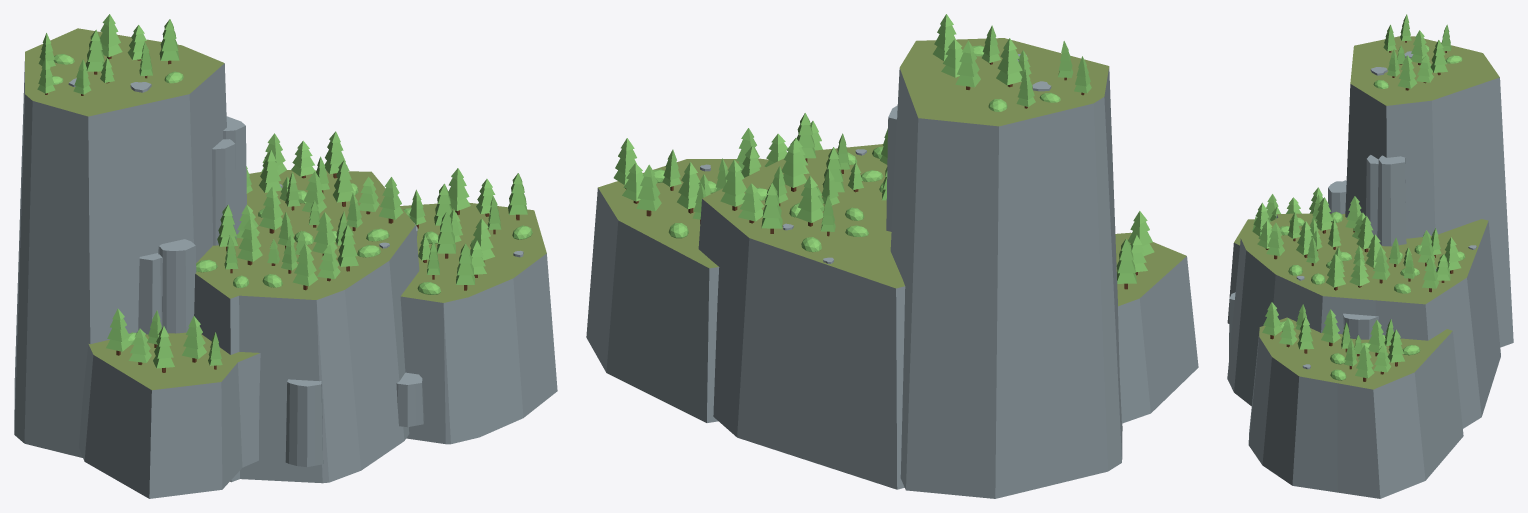
File: Mountain5.fbx
3 views of the same model, side by side, from view 1: azimuth 30°, elevation 25°; view 2: azimuth 150°, elevation 25°; view 3: azimuth 270°, elevation 25° (orthographic). The views are drawn at different scales.
Visible parts, largest first — view 1: Cube.640; view 2: Cube.640; view 3: Cube.640.
Part boxes in pixels (x1,y1,x2,y2): Cube.640: [14, 14, 557, 498]; Cube.640: [586, 14, 1198, 498]; Cube.640: [1227, 14, 1513, 498].
Bounding box in the file's own units: 6525 × 4908 × 4107.
